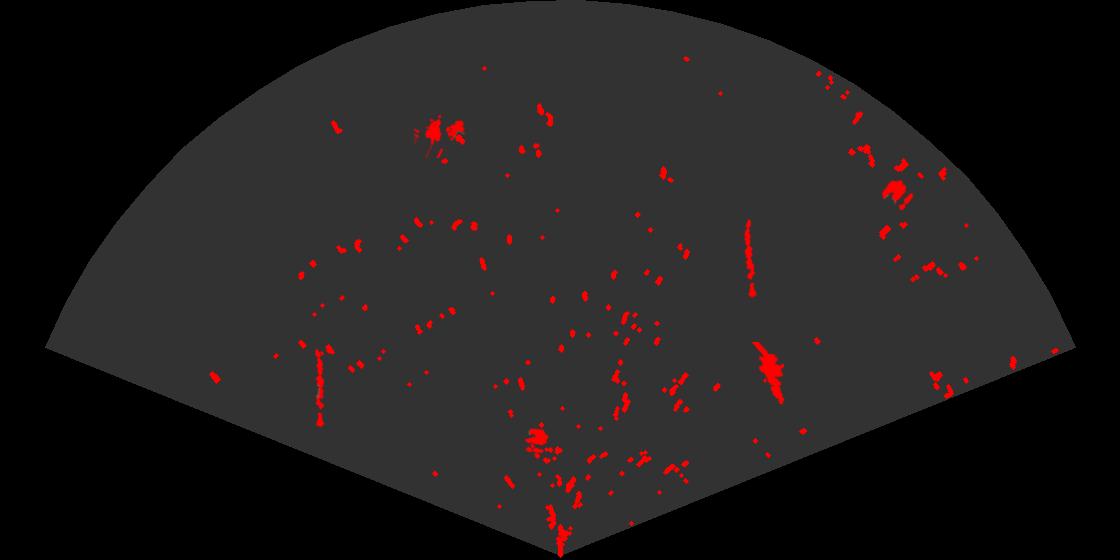ball: (880, 178, 915, 212), (523, 427, 550, 455)
cage: (414, 113, 467, 158)
chain: (742, 218, 758, 300), (314, 347, 326, 427)
frogman: (750, 342, 786, 406)
